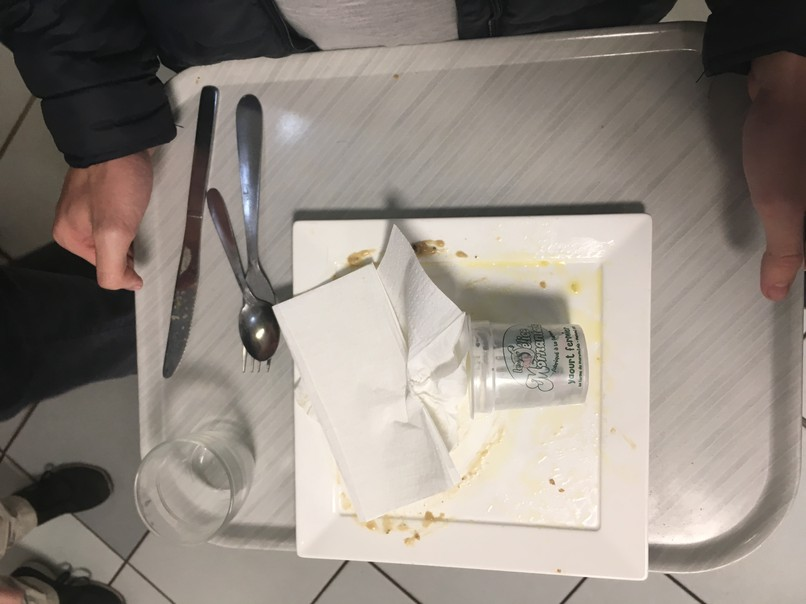cup: (112, 428, 257, 550)
cutlery: (192, 84, 287, 379), (157, 81, 223, 386)
trash: (276, 221, 464, 516), (464, 313, 595, 420)
